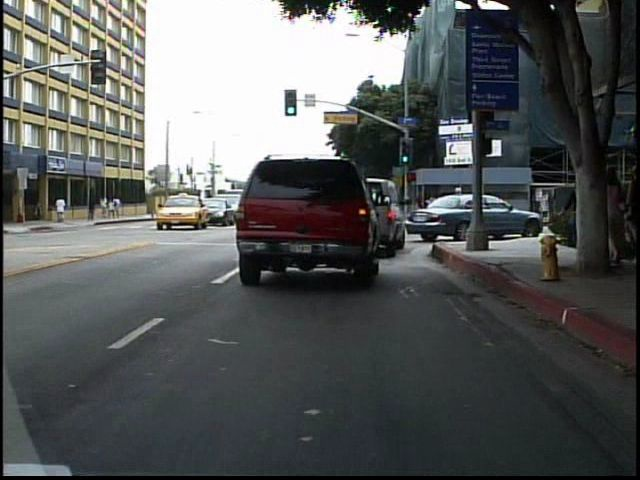person: (606, 167, 627, 266), (452, 184, 469, 230), (56, 195, 70, 227)
